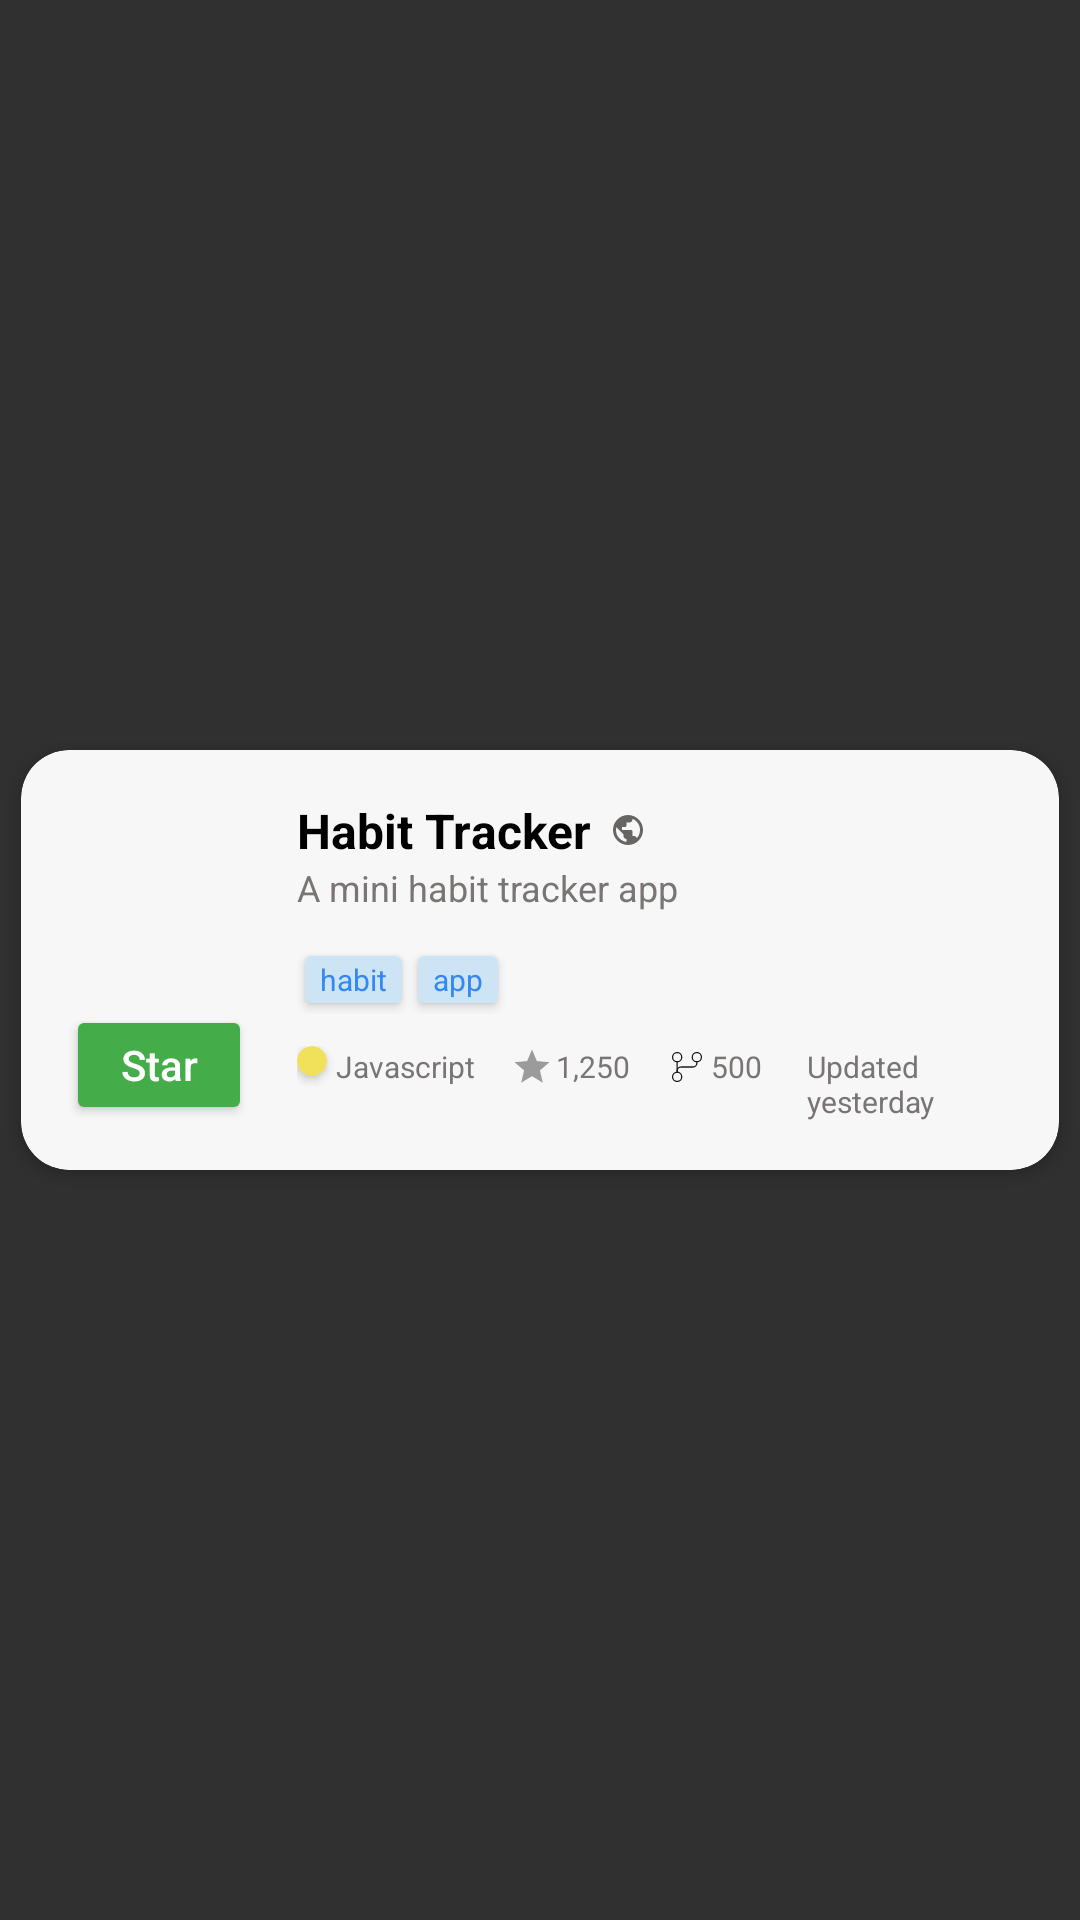

Where to tap for icons on this 1080w x 1920h app screen, as [x,y]:
forks: [687,1067]
public: [628,830]
stars: [532,1066]
